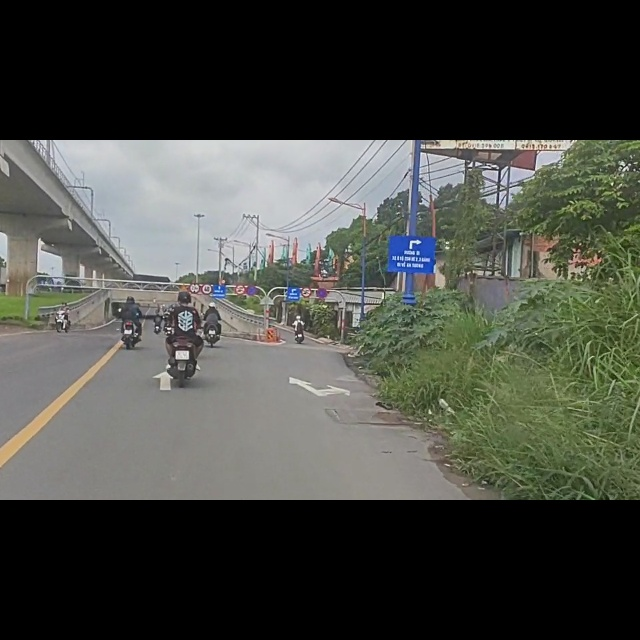bien_nguy_hiem: (201, 255, 213, 276), (317, 261, 327, 282), (301, 261, 312, 280), (190, 255, 200, 273), (235, 257, 245, 275), (247, 258, 257, 276)
